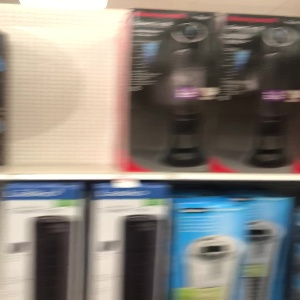void: (3, 1, 120, 176)
